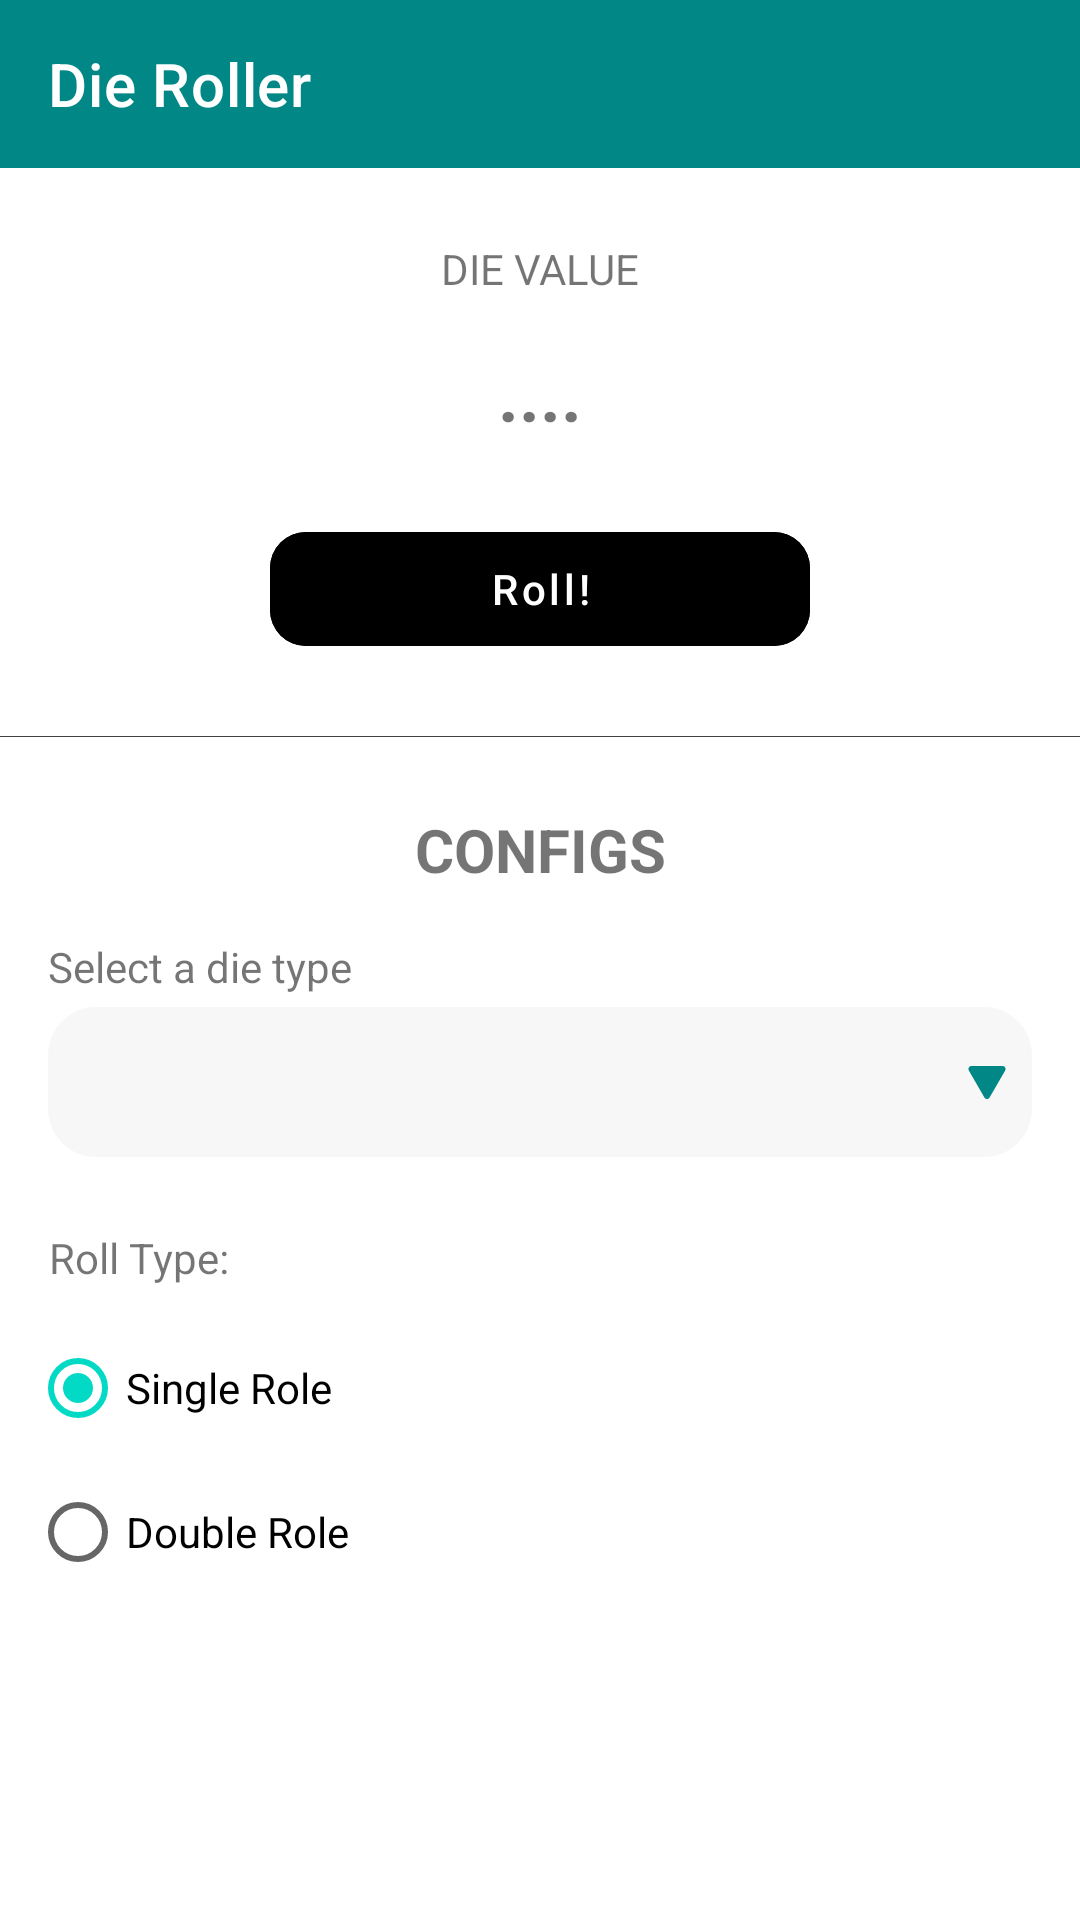

Named icons in this screenshot (1080*1920) and their bounding boxes, {"left": x1, "top": y1, "right": x2, "bottom": y2}:
drop down: {"left": 968, "top": 1066, "right": 1006, "bottom": 1099}
